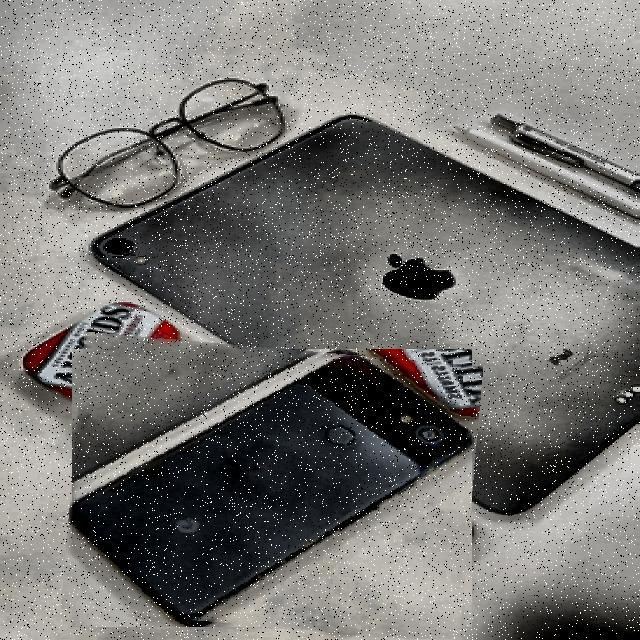Phone: (66, 340, 478, 636)
